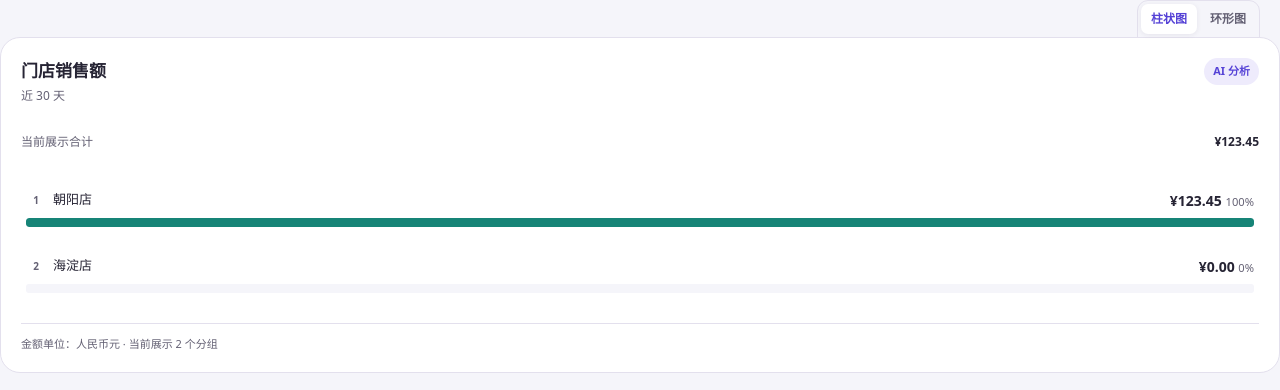
it: 经营对比图 › 显示真实金额并允许在柱状图与环形图之间切换
This screenshot has width=1280, height=390.
Expected: the text "¥123.45" is shown, x1=1214 y1=132 x2=1259 y2=150
Expected: the text "海淀店" is shown, x1=53 y1=256 x2=92 y2=274
Click the button "环形图" at (1228, 19), box x1=1200 y1=4 x2=1256 y2=34
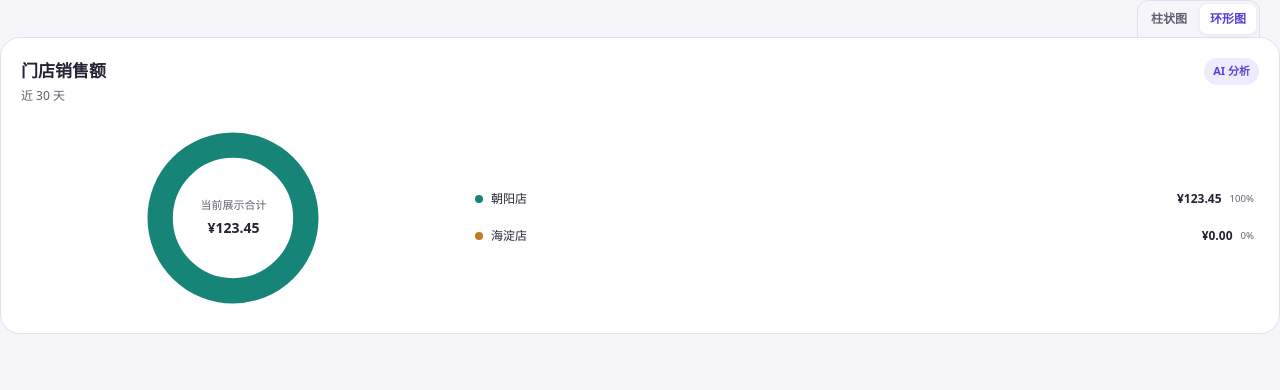
Expected: the picture named "门店销售额" is shown, x1=138 y1=122 x2=328 y2=312
